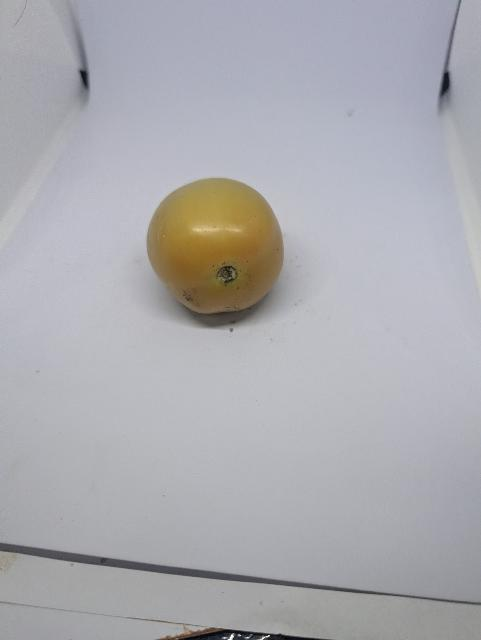turning: (143, 178, 301, 321)
